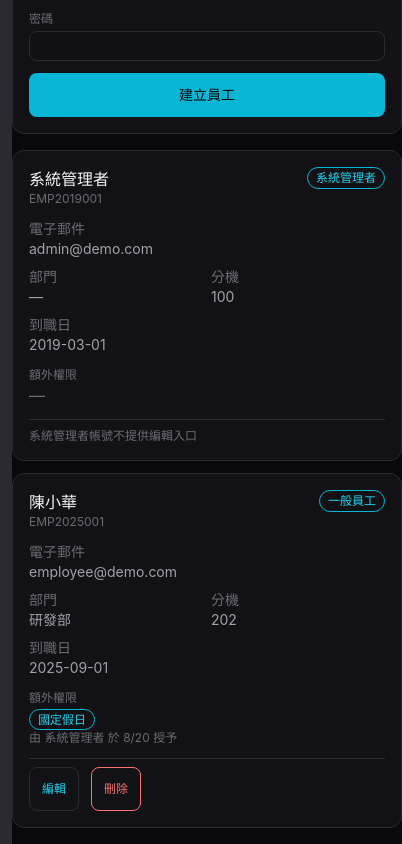
刪除員工需二次確認才會呼叫 API
(page scrolled)
Expected: the text "陳小華" is shown, [29,492,77,512]
Click the button "刪除": click(116, 789) [91,767,141,811]
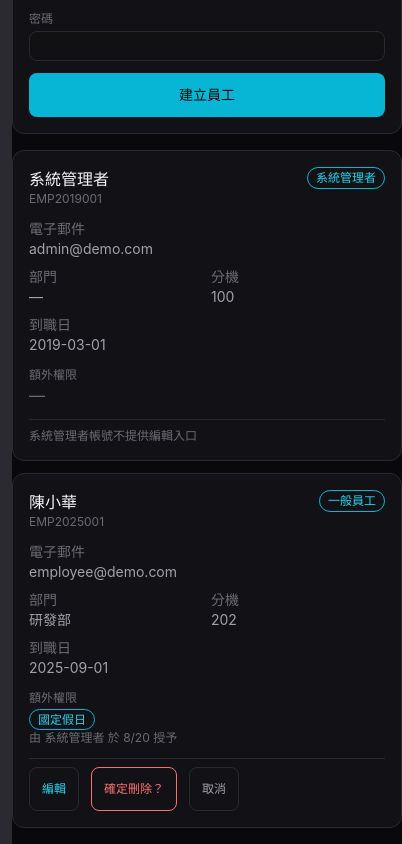
Click the button "確定刪除？": click(134, 789) [91,767,177,811]
(page scrolled)
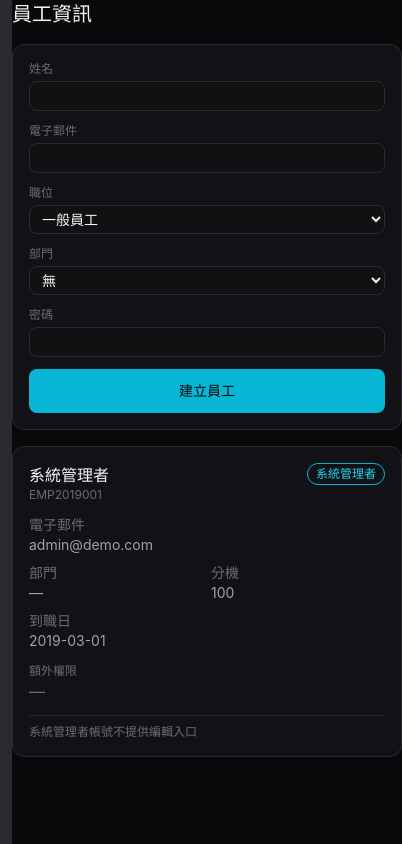
Expected: the text "陳小華" is gone
